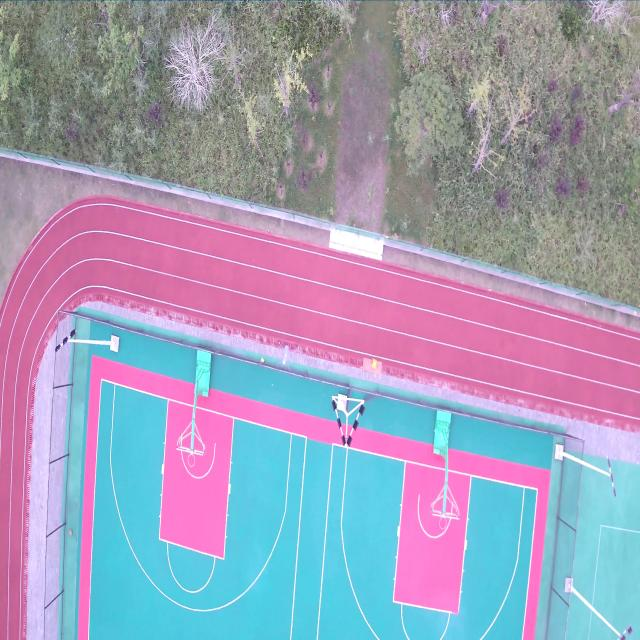UAV: (276, 341, 296, 373)
